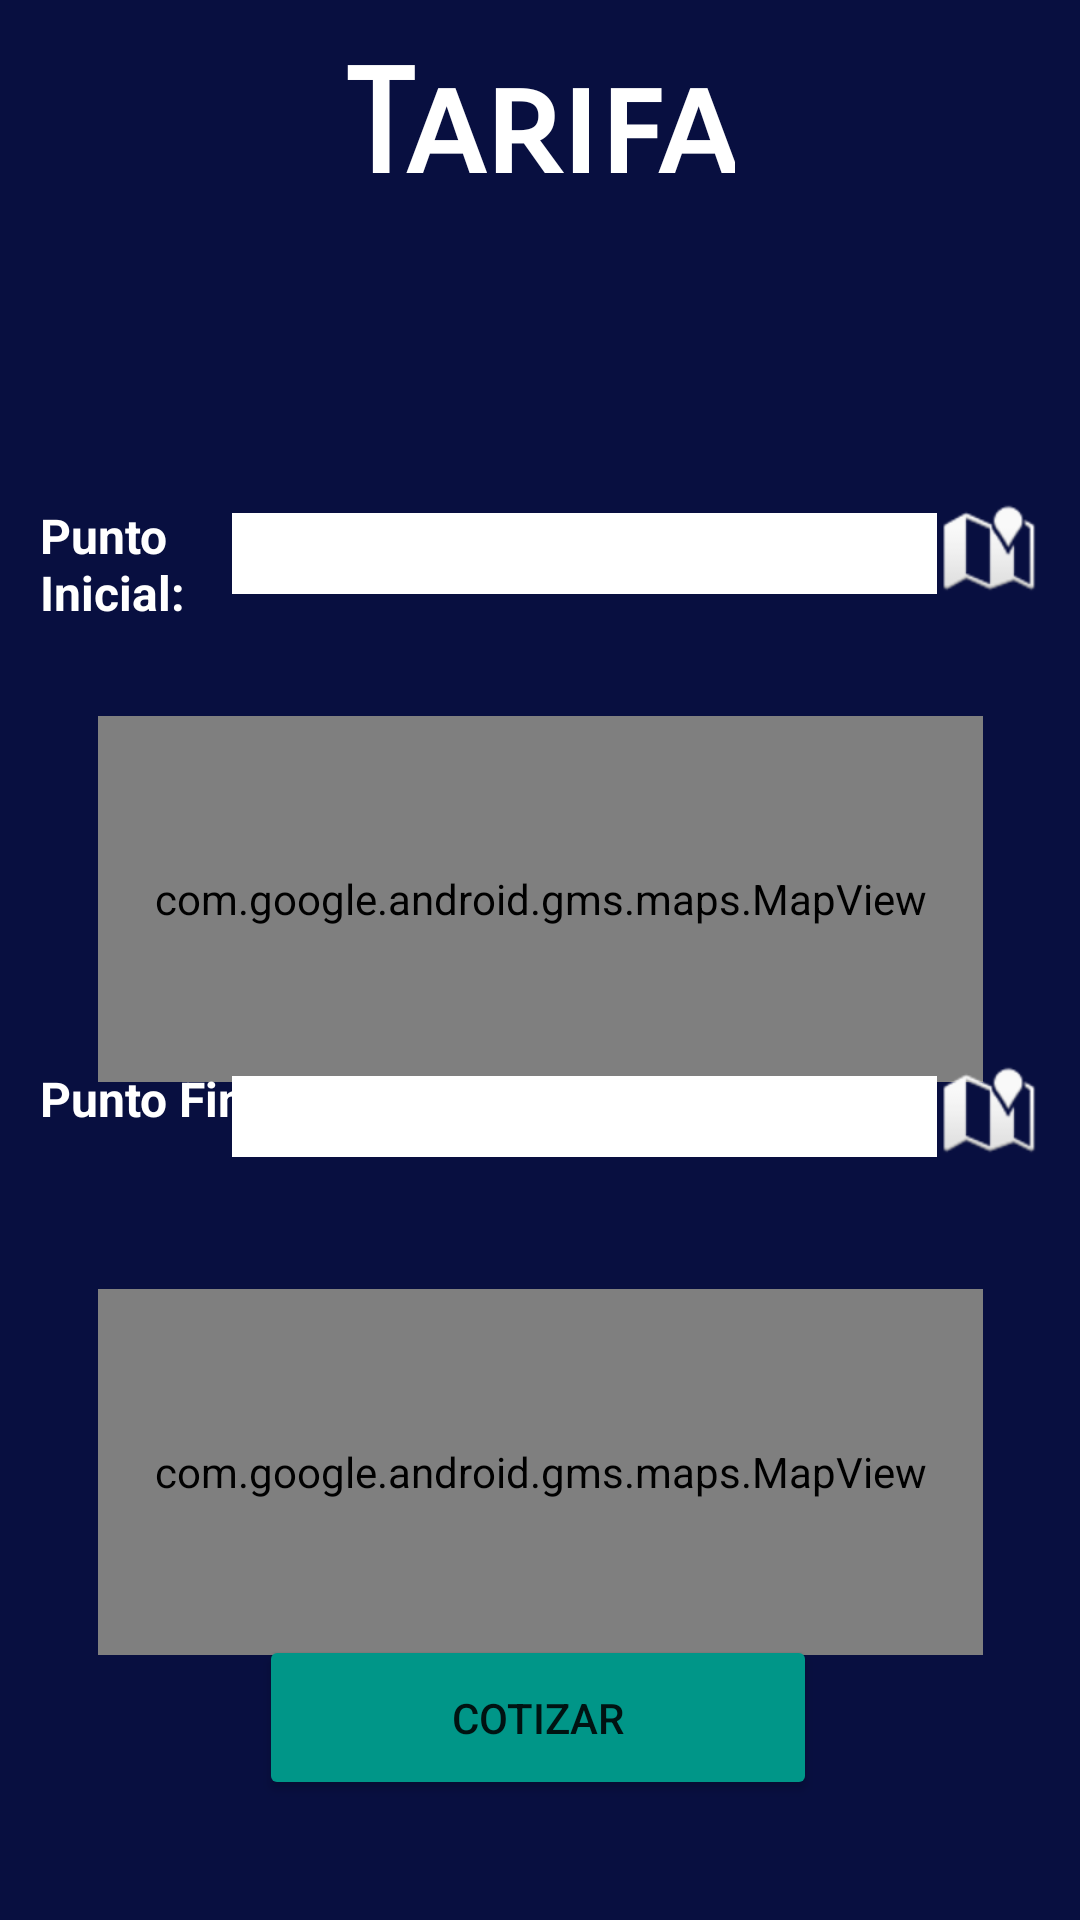

Screen size 1080px×1920px. Icon name, then its box in pixels as (x1, y1, x2, y2):
map: (943, 505, 1035, 590), (942, 1062, 1035, 1152)
